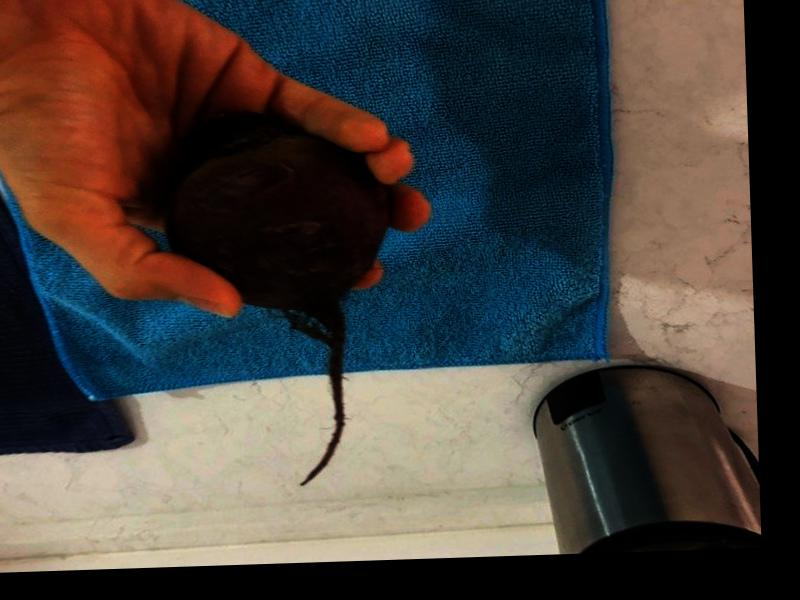Beet: (161, 107, 399, 488)
